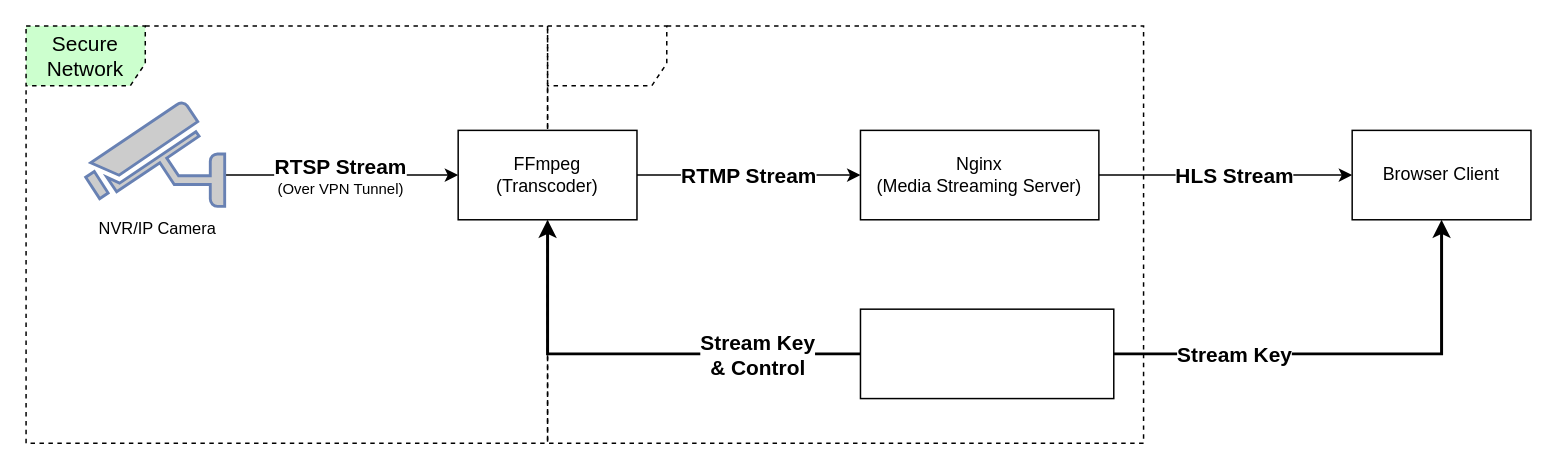
Some shapes in this 1557 by 469 pixel diagram are drawn without their labels. The box of each missing label's shape, as (x1, y1, x2, y2) in pixels:
Backend Network: (546, 25, 1144, 443)
Backend Server Stream Controller Module (Django): (859, 308, 1114, 399)
